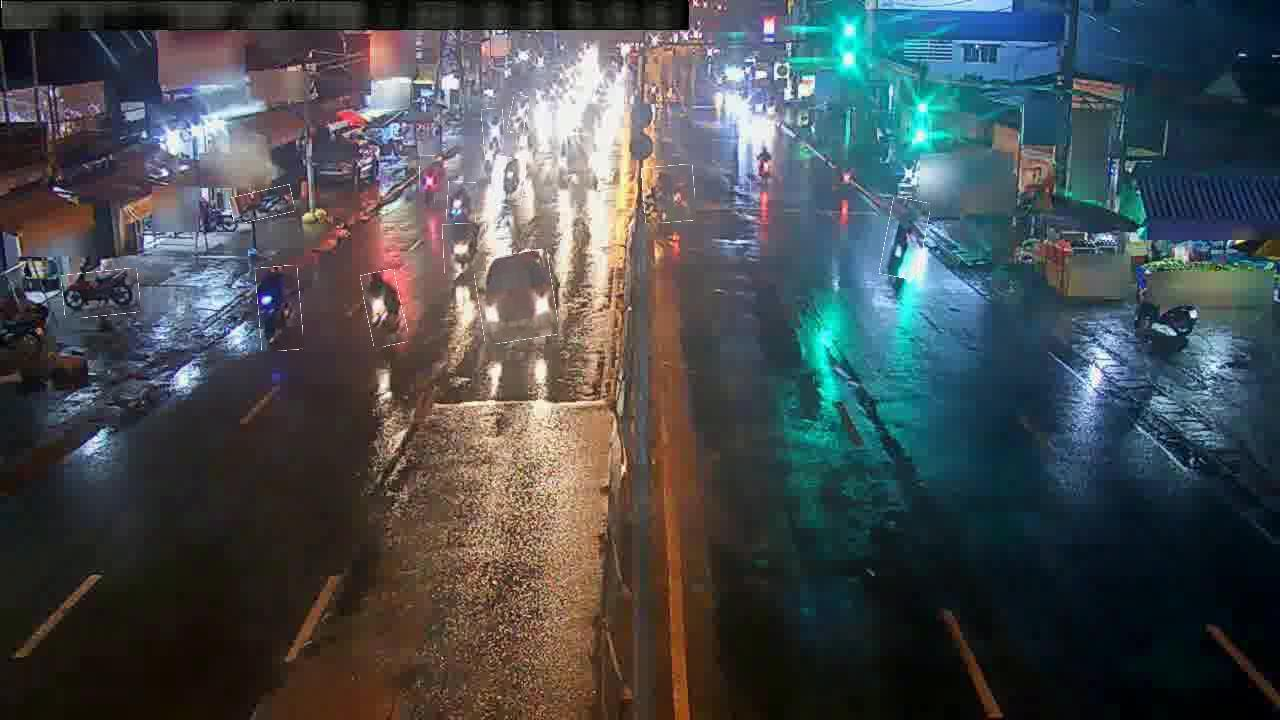container: (475, 252, 556, 343)
motorbike: (257, 266, 303, 352), (62, 270, 140, 318), (882, 199, 928, 279), (364, 271, 406, 347), (642, 165, 695, 223), (443, 224, 487, 274), (230, 188, 294, 221), (750, 136, 786, 192), (495, 157, 526, 206), (447, 182, 477, 223), (482, 109, 505, 155), (420, 155, 436, 204), (509, 96, 529, 134)
